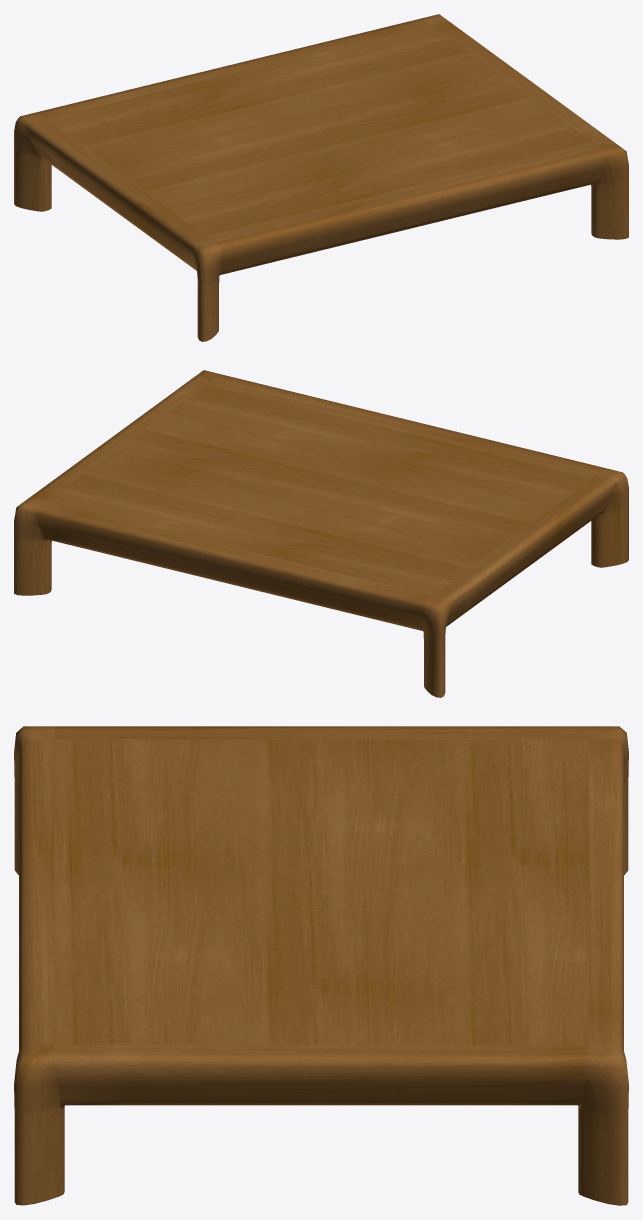
Rendered from sweethome3d-scopia-table.glb.
The picture shows the model from 3 angles, top to bottom: view 1: azimuth 30°, elevation 25°; view 2: azimuth 150°, elevation 25°; view 3: azimuth 270°, elevation 25°; orthographic projection. The views are drawn at different scales.
Parts seen in each view (by area): view 1: mesita_ext2_Cube.012; view 2: mesita_ext2_Cube.012; view 3: mesita_ext2_Cube.012.
Boxes of the visible parts, box(x1,y1,x2,y2) form: mesita_ext2_Cube.012: box(14, 14, 628, 341); mesita_ext2_Cube.012: box(14, 370, 628, 697); mesita_ext2_Cube.012: box(14, 726, 628, 1205).
Bounding box in the file's own units: 99.81 × 19.75 × 76.35.
Materials: 1 (1 with a texture image).
